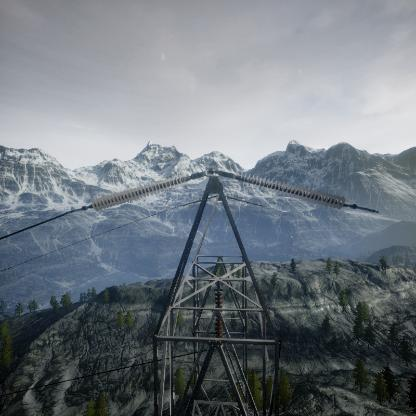insulator: (227, 170, 348, 208), (85, 176, 193, 212), (213, 285, 225, 347)
